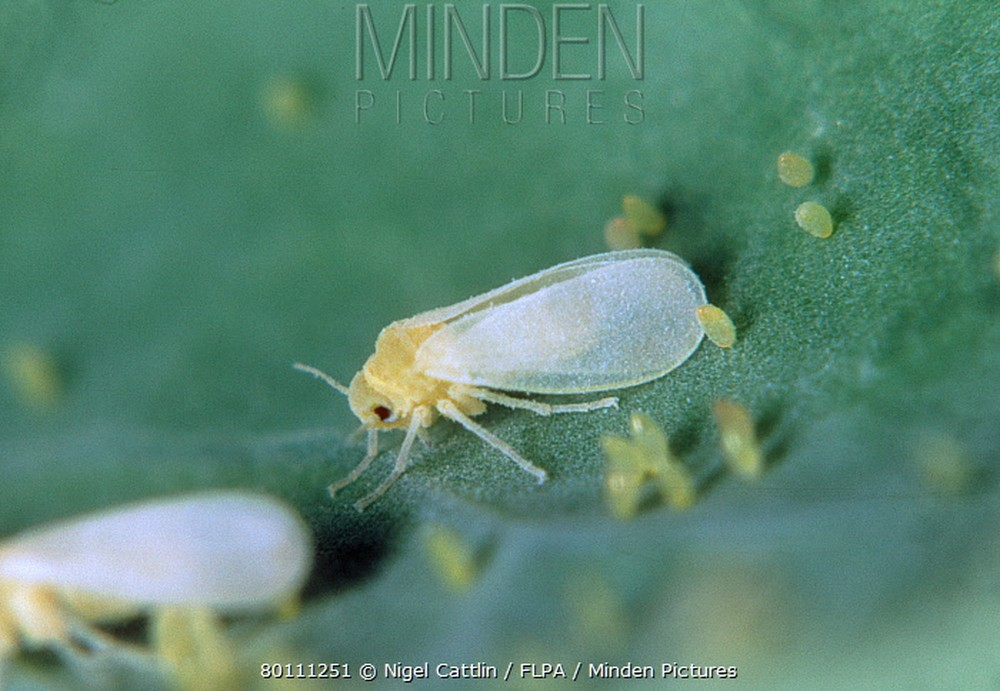Mosca Blanca: (297, 236, 721, 502), (3, 482, 332, 676)
